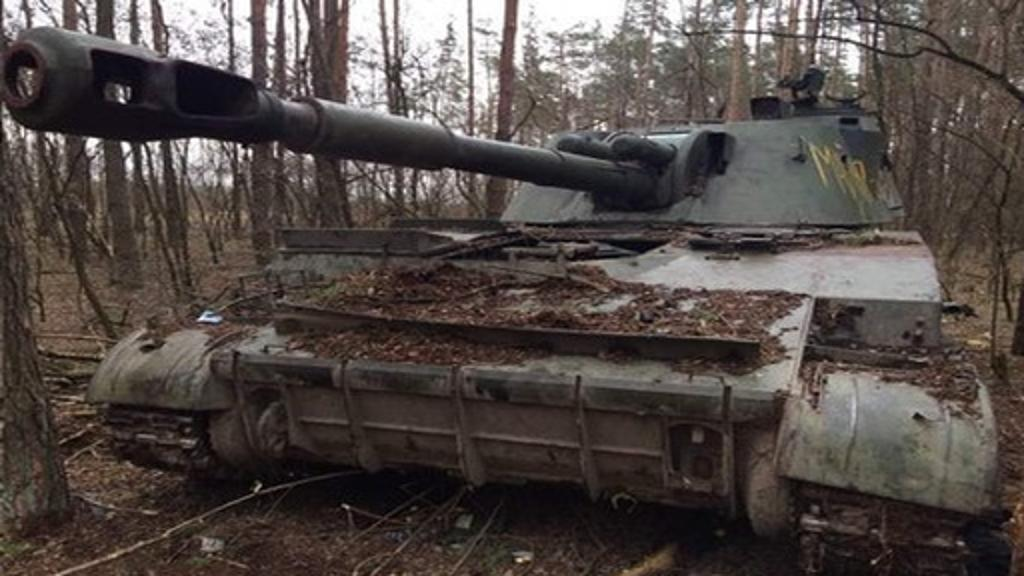ART: (0, 18, 1002, 574)
